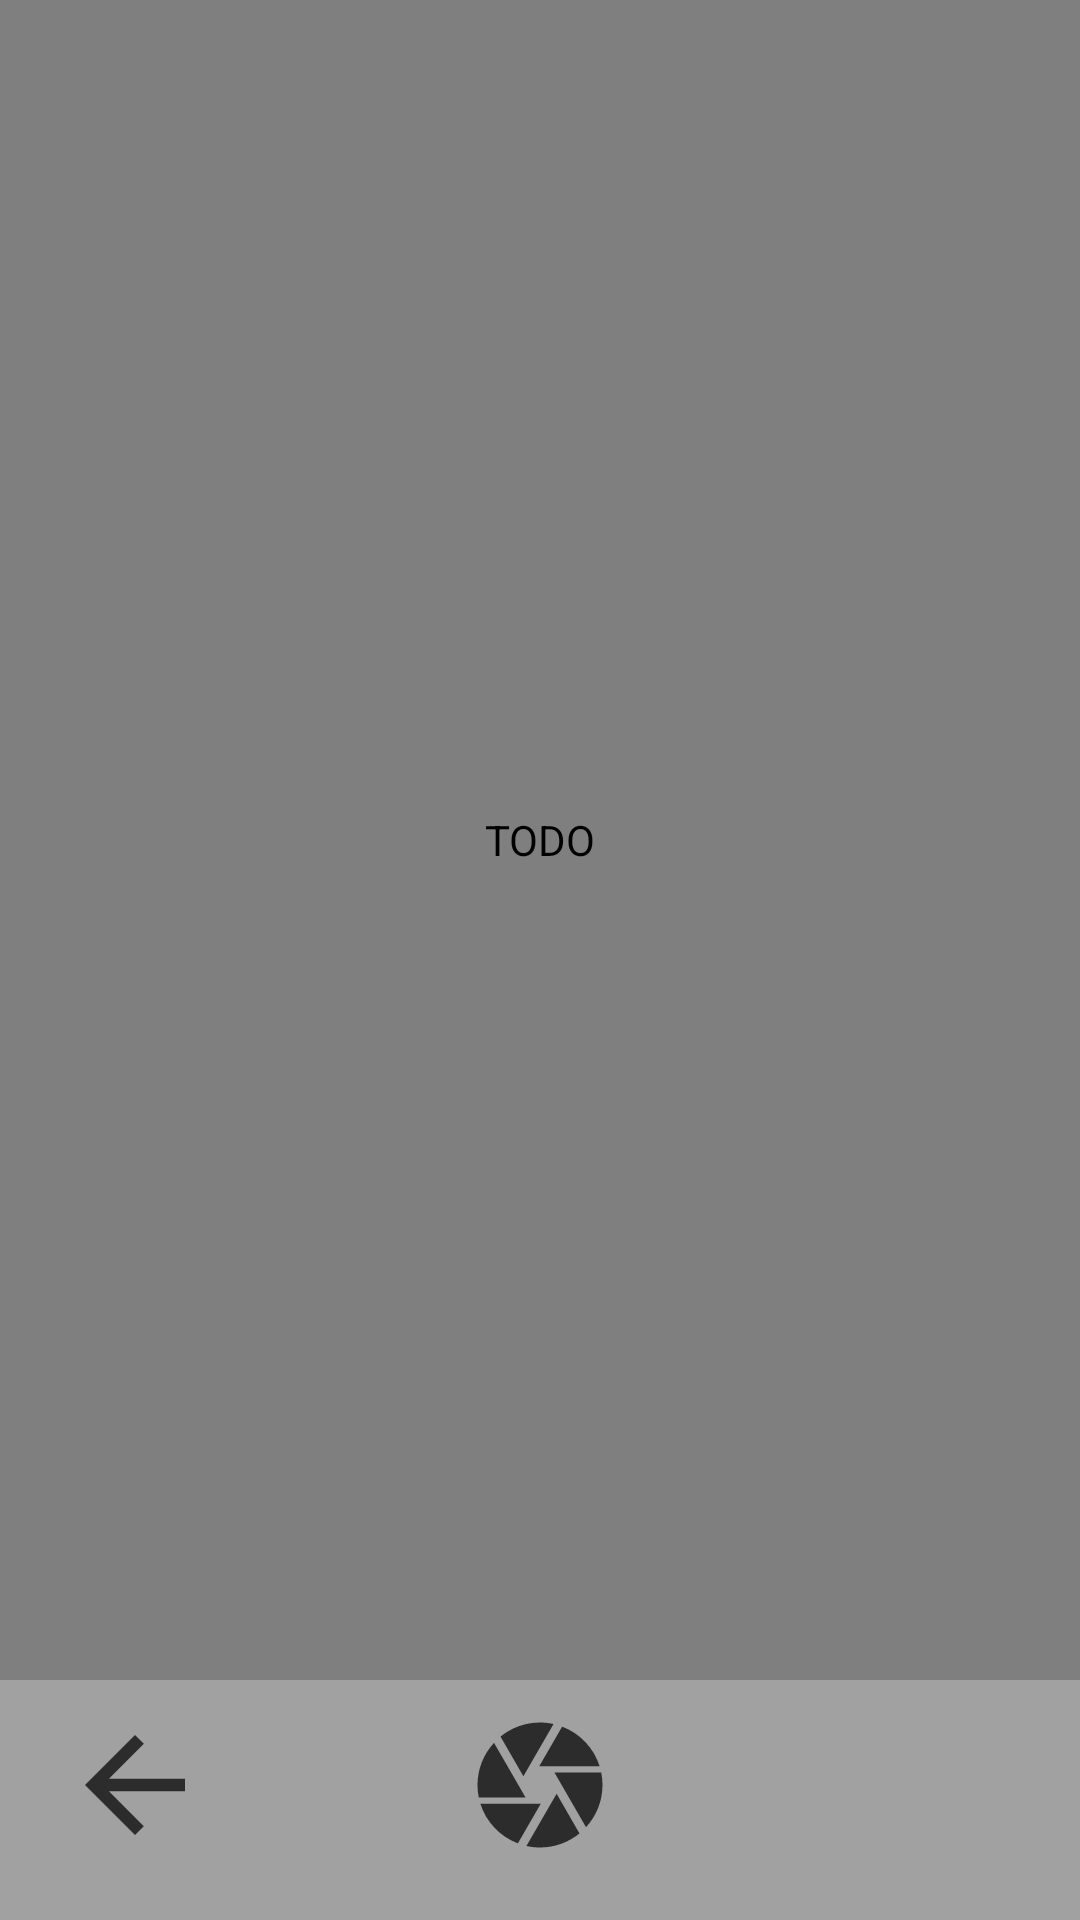

Icons on this 1080×1920 Android screen, each with the point to tap as (x,y):
arrow back: (135,1785)
camera: (540,1785)
